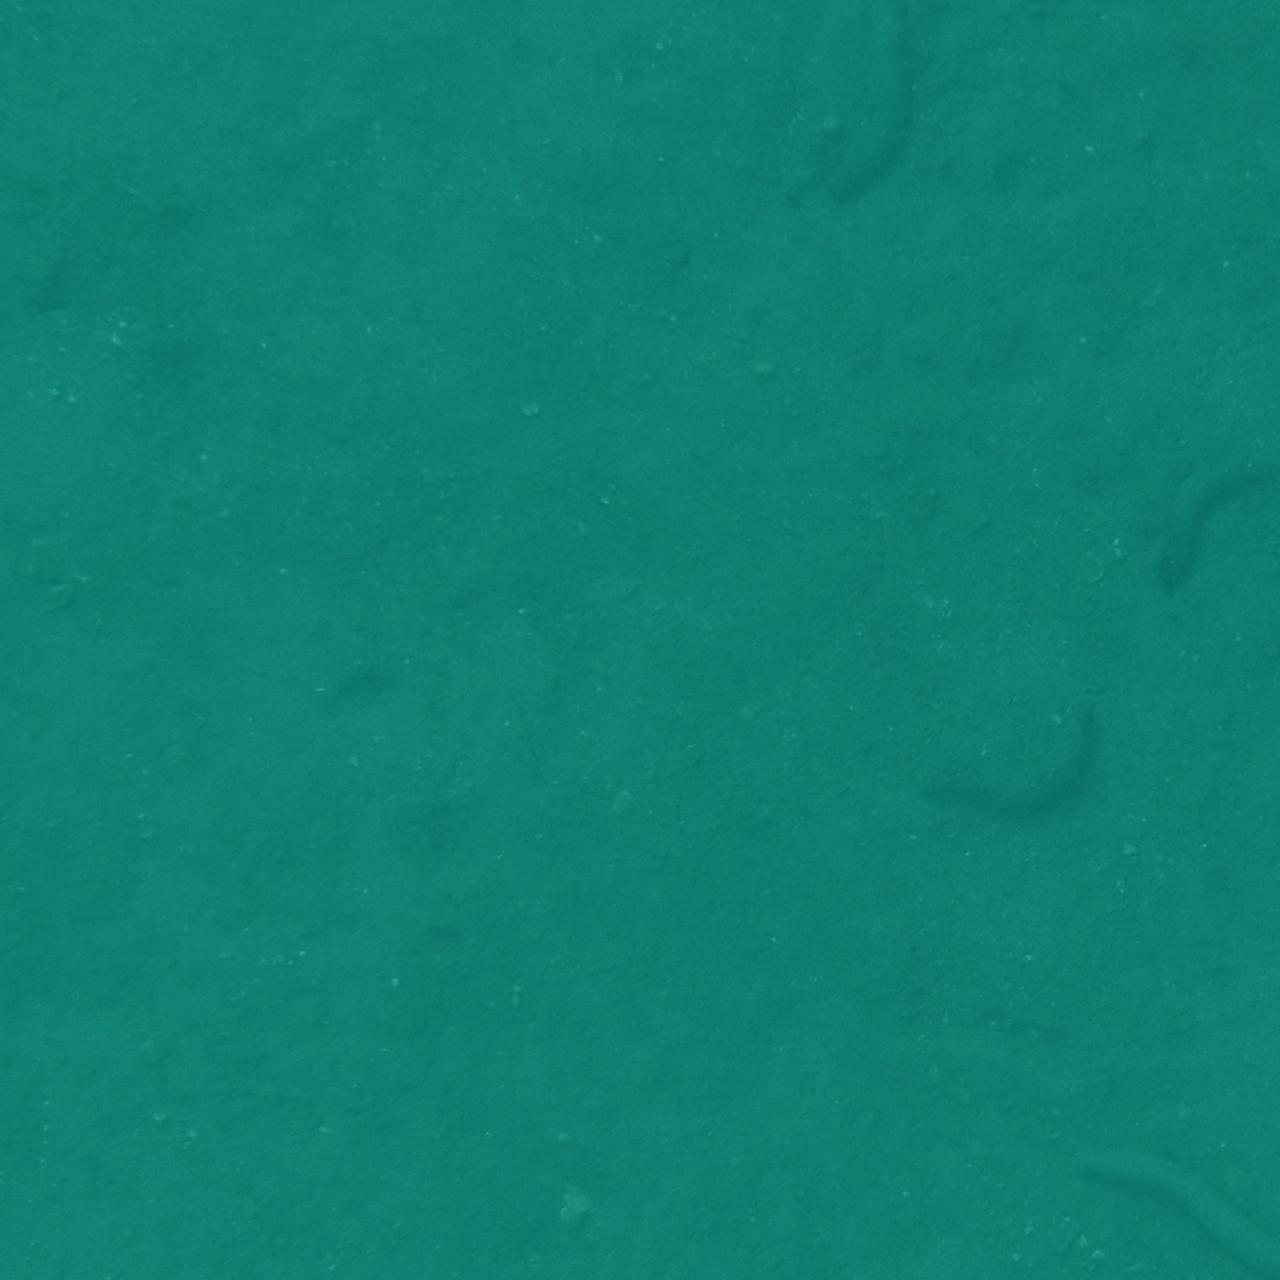Holothuria tubulosa: (1053, 1132, 1280, 1280), (0, 294, 158, 502), (806, 0, 933, 215), (939, 687, 1114, 822), (1182, 181, 1280, 401), (1137, 445, 1280, 590), (1119, 966, 1280, 1094), (946, 1165, 1124, 1280), (379, 0, 624, 79), (369, 1224, 681, 1280), (1193, 101, 1280, 299), (0, 1164, 129, 1280), (0, 676, 144, 779), (0, 620, 45, 949), (0, 1078, 105, 1216), (0, 0, 143, 91), (988, 1227, 1224, 1280), (185, 1183, 307, 1280), (823, 1157, 917, 1280), (0, 0, 73, 156), (0, 0, 123, 82), (1194, 0, 1280, 113), (1205, 1182, 1280, 1280), (1187, 1212, 1280, 1280)
